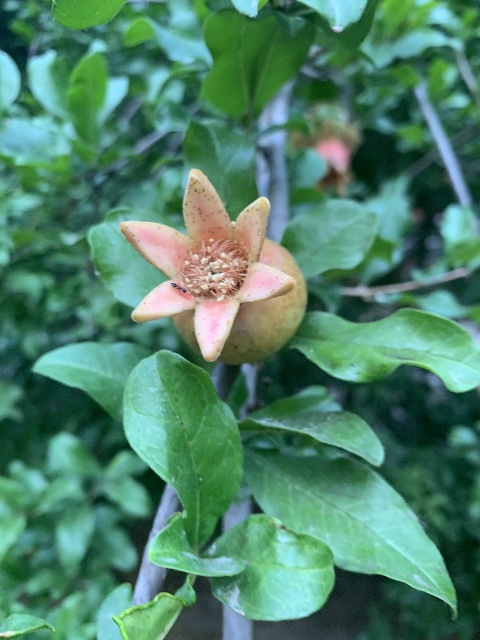early-fruit: (119, 168, 307, 364)
mid-growth: (290, 96, 363, 198)
